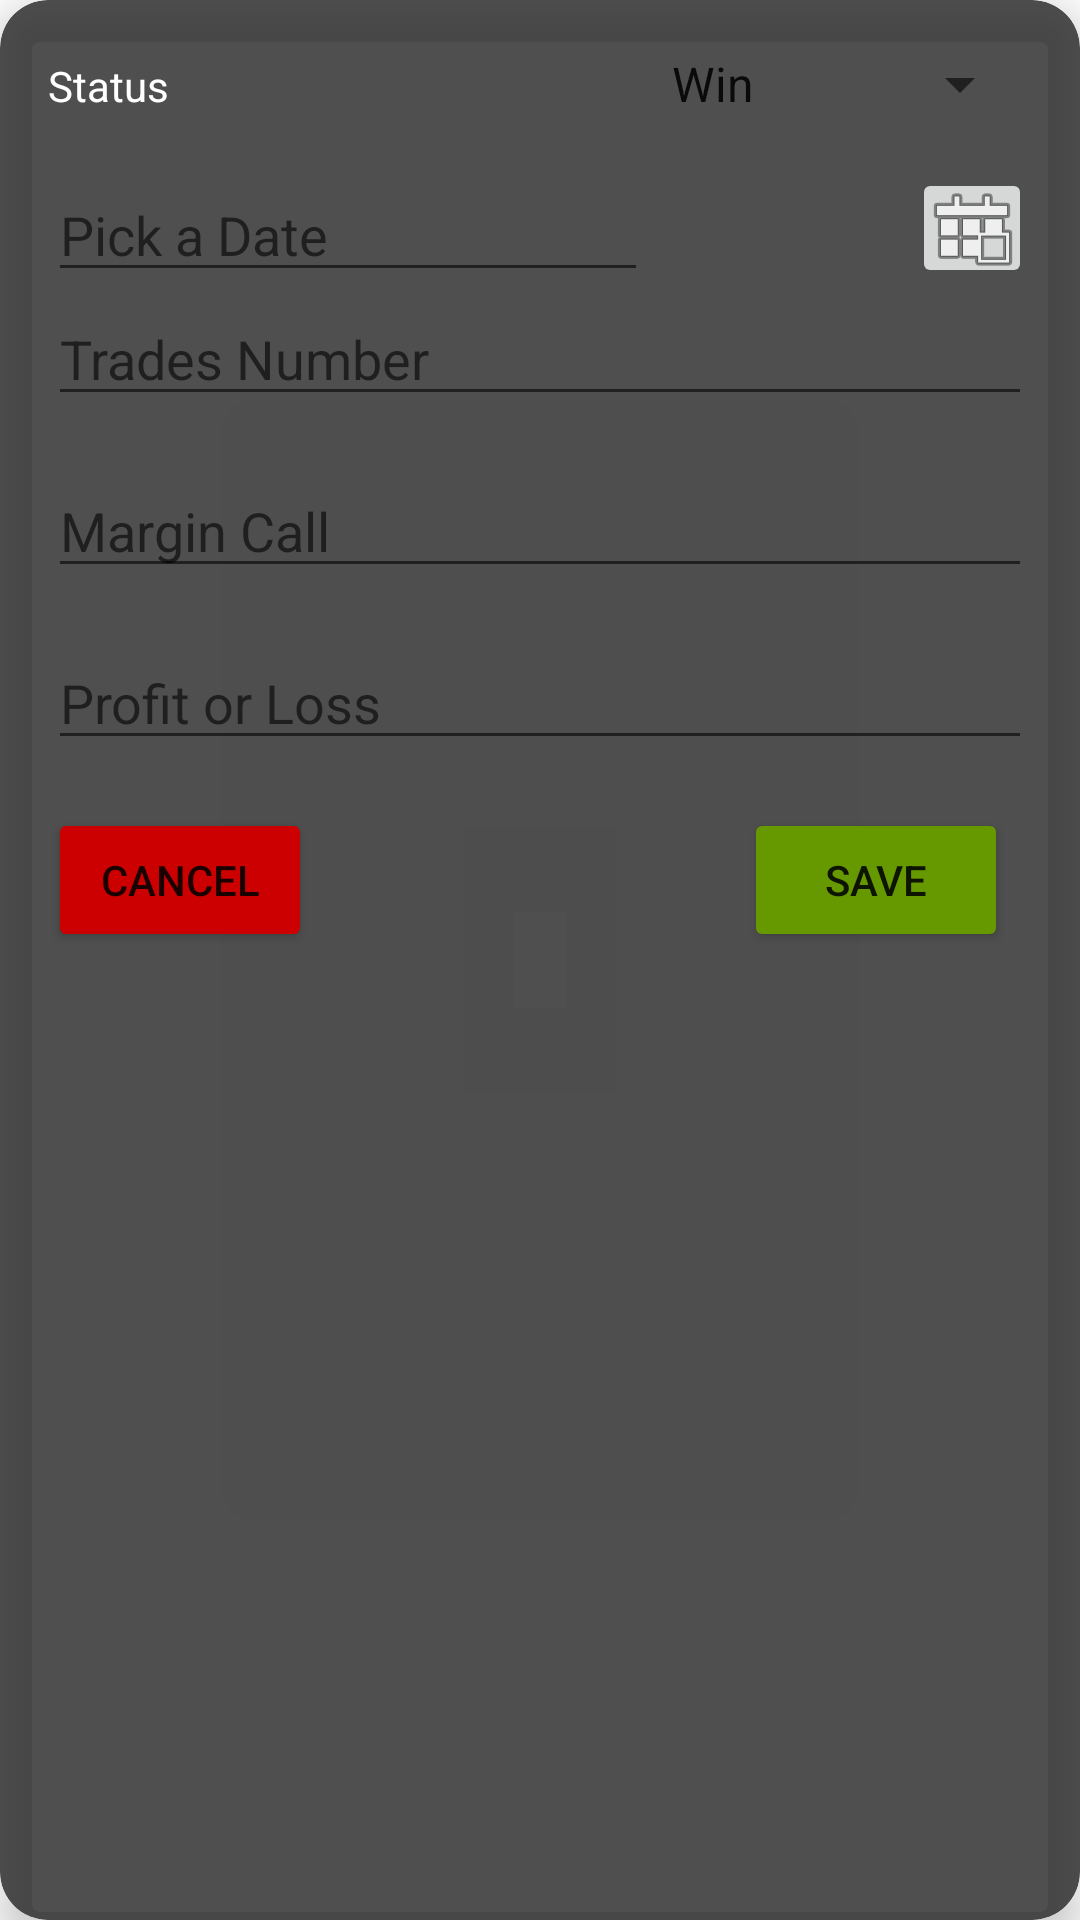

Locate icon controls on the screen. Image size 1080*1920, boxes as (x1, y1, x2, y2).
Pick a Date: (924, 186, 1020, 270)
